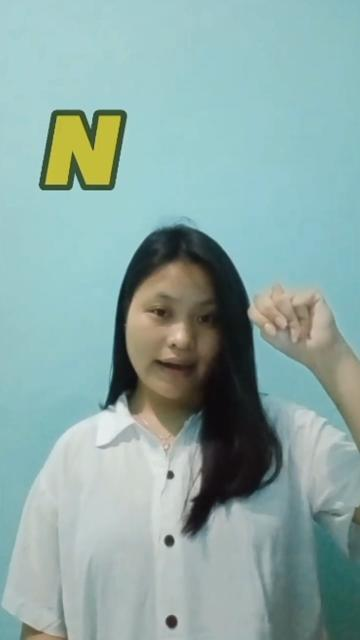N: (244, 280, 336, 360)
